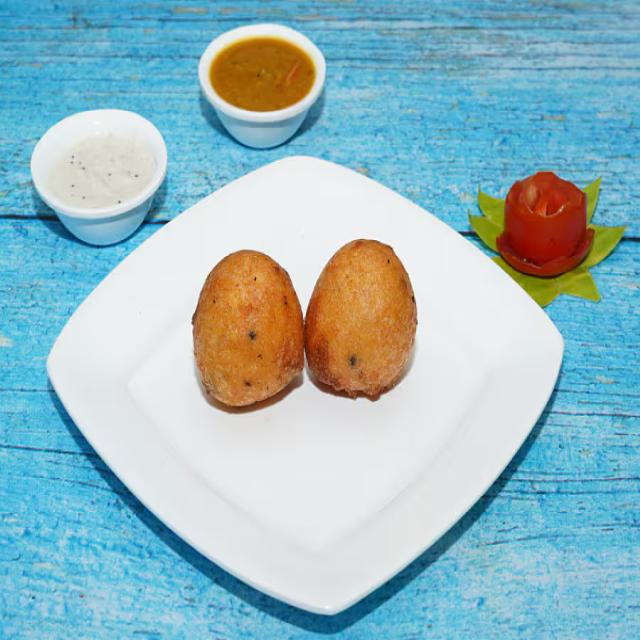BONDA: (193, 237, 419, 412)
SAMBAR: (208, 37, 315, 113)
WHITE CHUTNEY: (46, 130, 156, 212)
